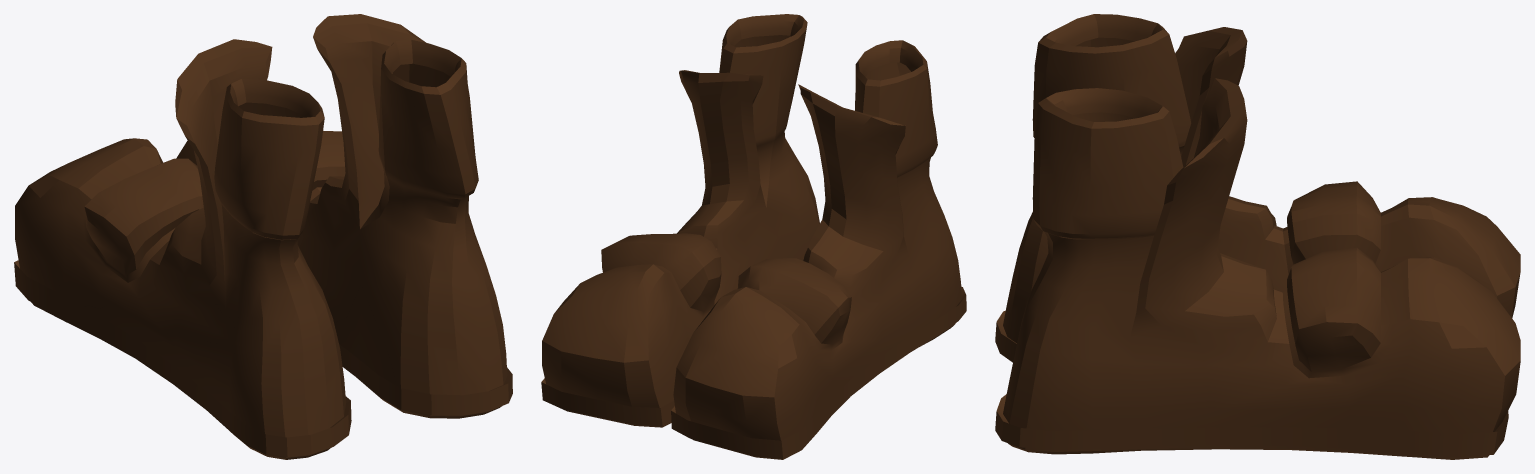
Rendered from brown winter boots.fbx.
The picture shows the model from 3 angles, left to right: view 1: azimuth 30°, elevation 25°; view 2: azimuth 150°, elevation 25°; view 3: azimuth 270°, elevation 25°; orthographic projection. The views are drawn at different scales.
Visible parts, largest first — view 1: menino_polySurface18_menino_polySurface48_menino_polySurface, menino_polySurface18_menino_polySurface46_menino_polySurface; view 2: menino_polySurface18_menino_polySurface48_menino_polySurface, menino_polySurface18_menino_polySurface46_menino_polySurface; view 3: menino_polySurface18_menino_polySurface46_menino_polySurface, menino_polySurface18_menino_polySurface48_menino_polySurface.
Part boxes in pixels (x1,y1,x2,y2): menino_polySurface18_menino_polySurface48_menino_polySurface: (14, 39, 351, 459); menino_polySurface18_menino_polySurface46_menino_polySurface: (176, 14, 512, 418); menino_polySurface18_menino_polySurface48_menino_polySurface: (671, 40, 966, 459); menino_polySurface18_menino_polySurface46_menino_polySurface: (541, 14, 819, 427); menino_polySurface18_menino_polySurface46_menino_polySurface: (995, 78, 1520, 459); menino_polySurface18_menino_polySurface48_menino_polySurface: (995, 14, 1520, 362).
Size of the model in its own units: 30.22 by 32.17 by 46.17.
